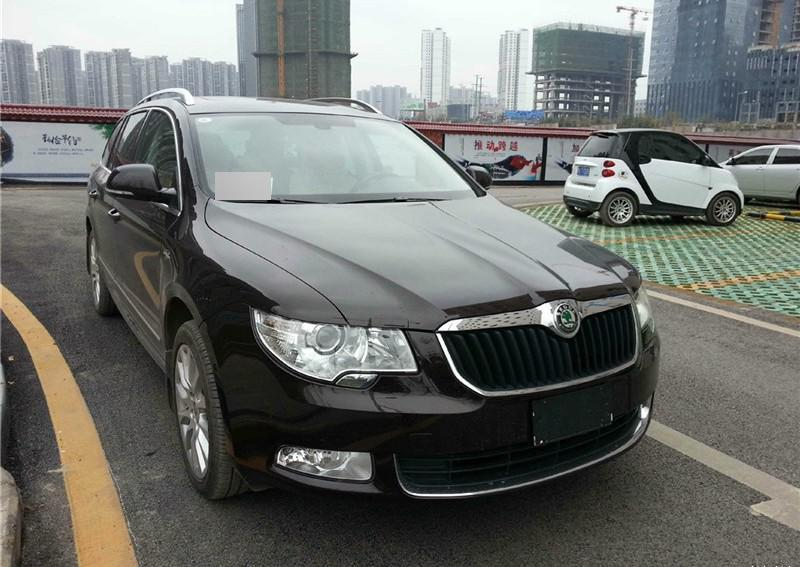Wagon: (84, 85, 660, 501)
